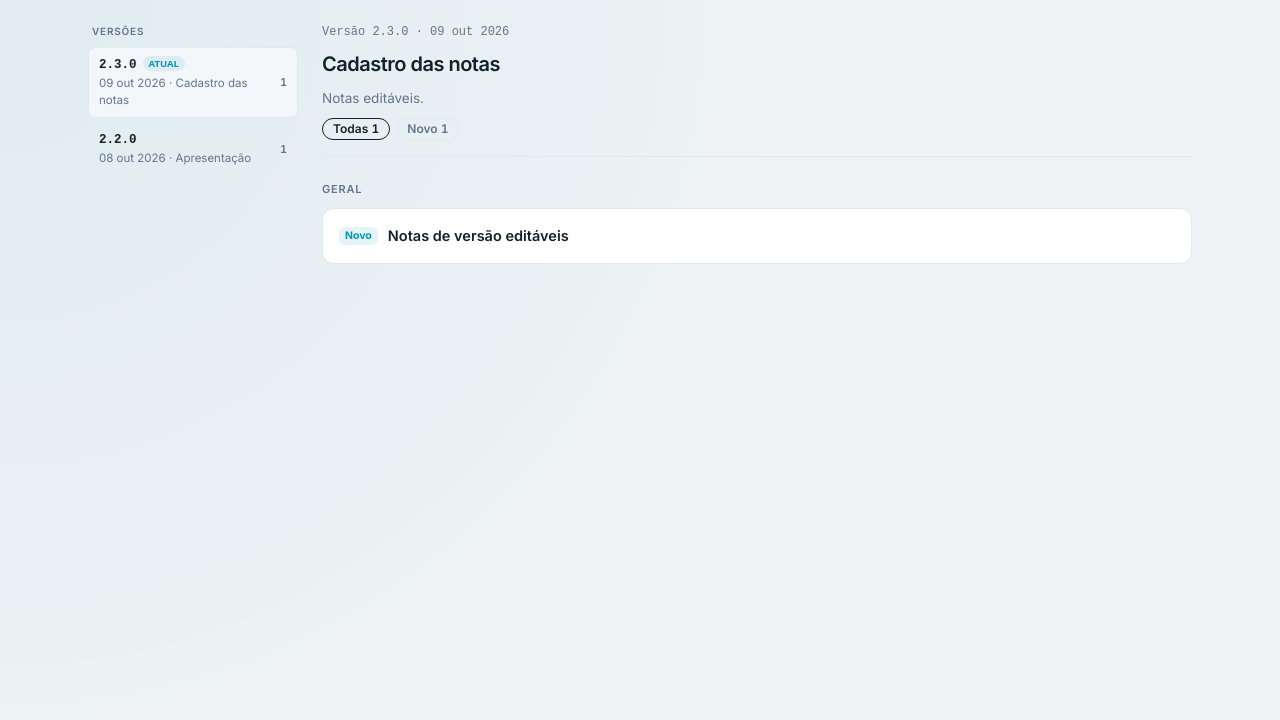
Notas de versão (página) › escolher outra versão mostra as notas dela, com Antes e Agora
Click the button "2.2.0 1 08 out 2026 · Apresentação".
click(193, 149)  # box [88, 122, 298, 176]
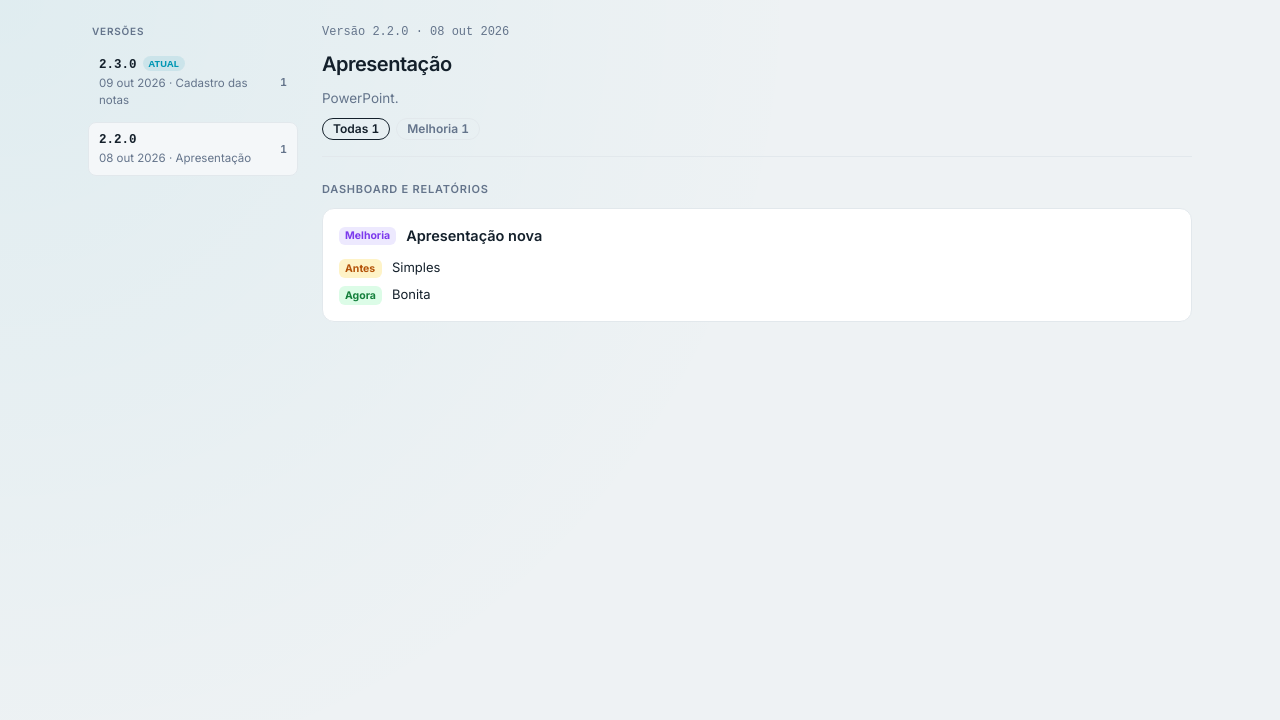
Expected: the heading "Apresentação nova" is shown, [406, 225, 542, 247]
Expected: the text "Antes" is shown, [339, 258, 382, 278]
Expected: the text "Agora" is shown, [339, 286, 382, 305]
